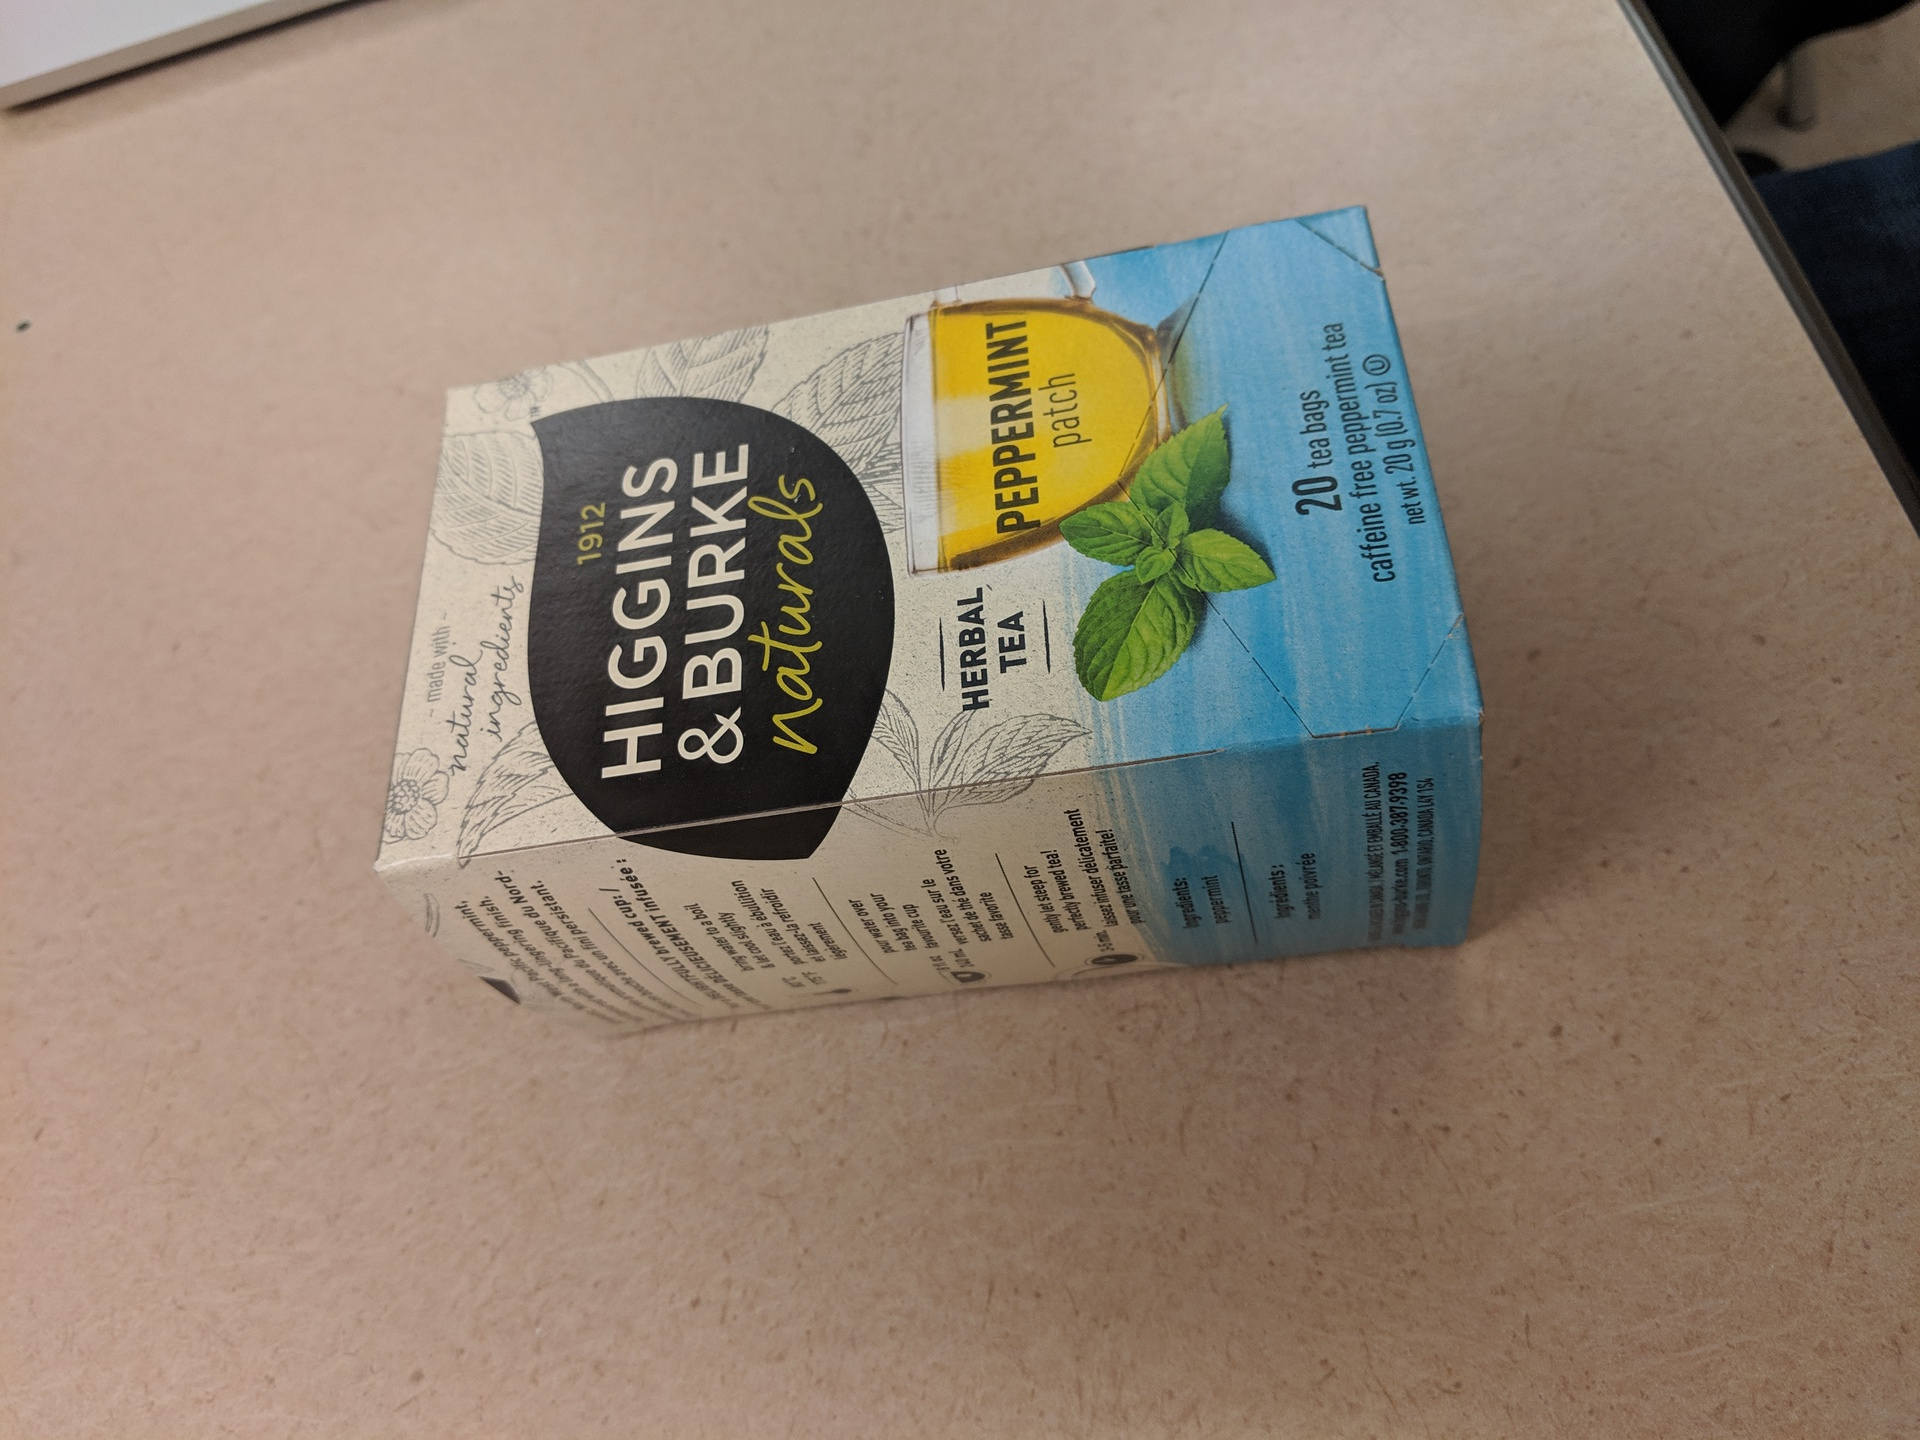higgins_and_burke_naturals_peppermint: (370, 197, 1498, 1047)
